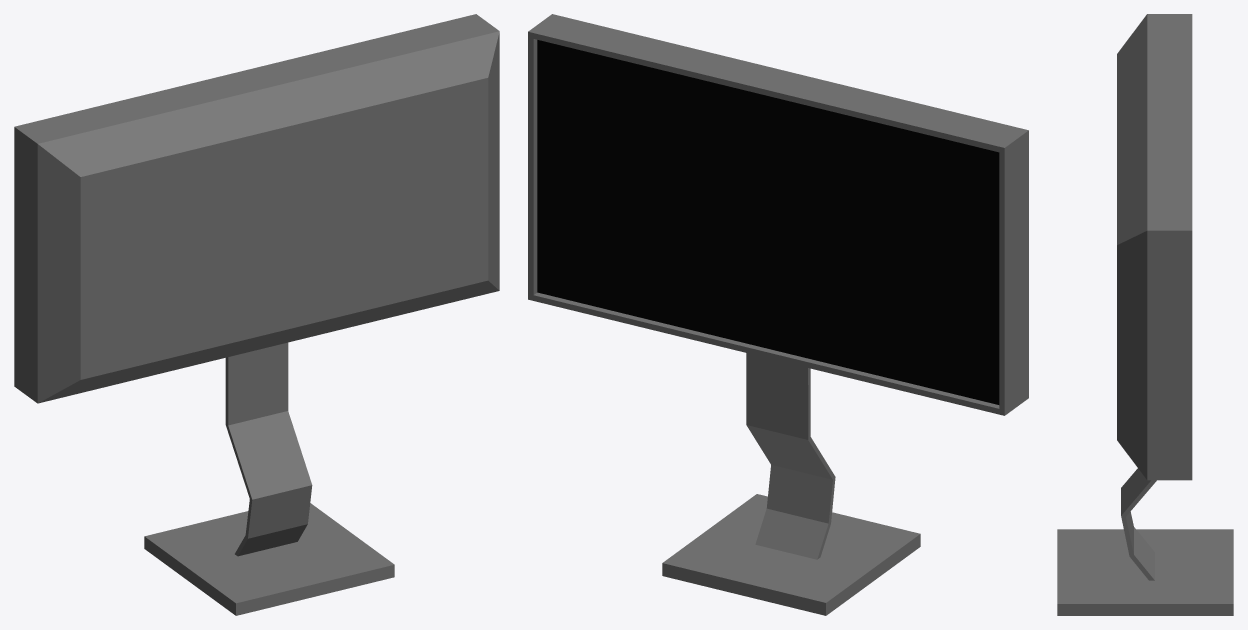
The model's file is monitor.gltf.
3 renders of one model, left to right at view 1: azimuth 30°, elevation 25°; view 2: azimuth 150°, elevation 25°; view 3: azimuth 270°, elevation 25°, orthographic. The views are drawn at different scales.
Visible parts, largest first — view 1: monitor; view 2: monitor; view 3: monitor.
Boxes of the visible parts, left/top/right/bottom form: monitor: left=14, top=14, right=499, bottom=615; monitor: left=528, top=14, right=1028, bottom=615; monitor: left=1057, top=14, right=1233, bottom=615.
Bounding box in the file's own units: 0.6096 × 0.5987 × 0.2094.
1 material, 1 textured.
